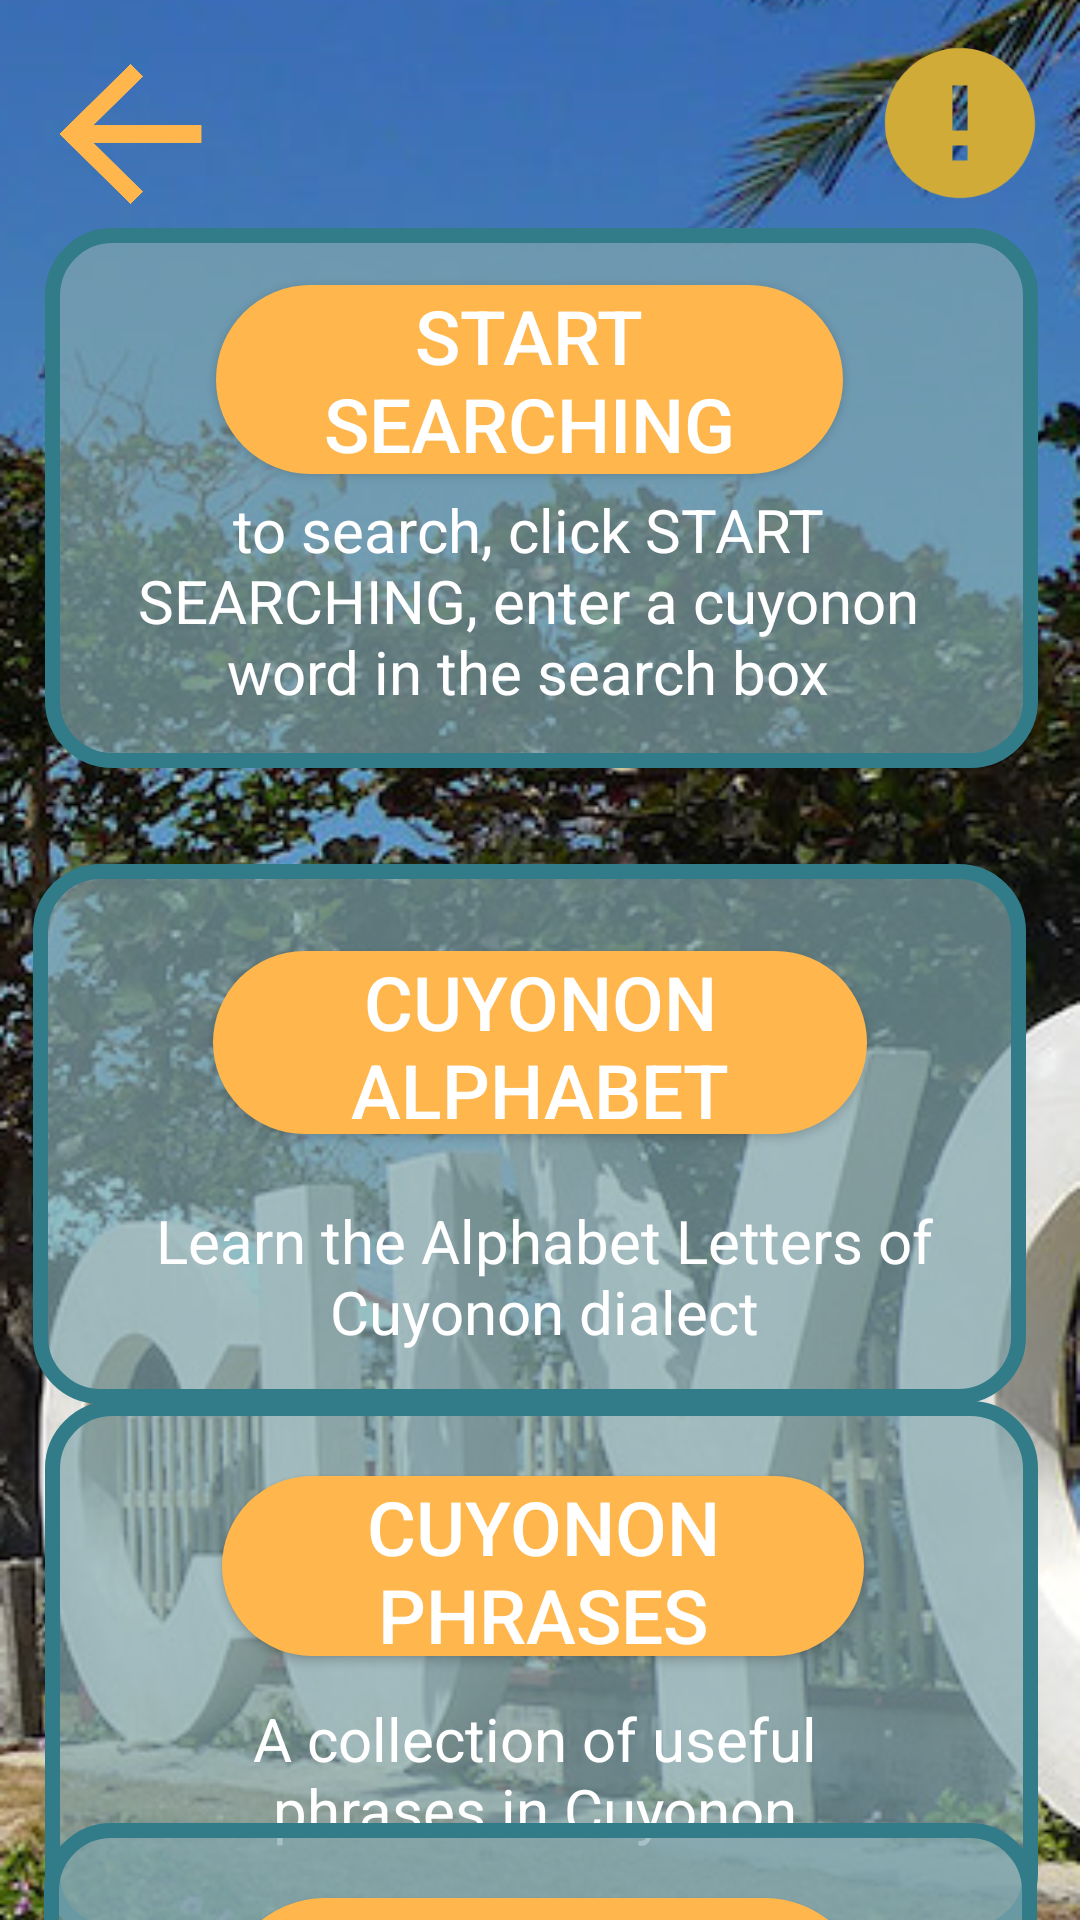

Icon bounding boxes for this 1080×1920 phone screenshot, format (x1, y1, x2, y2):
infoo: (870, 24, 1050, 198)
rowback: (60, 64, 202, 204)
